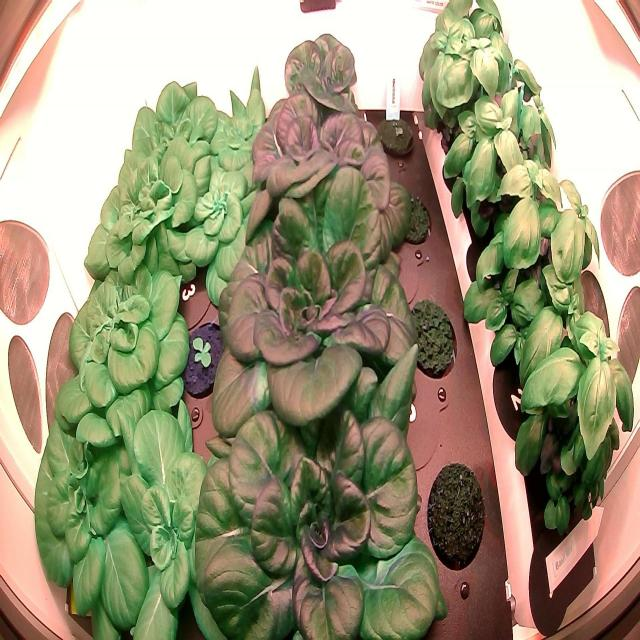Ready: (181, 334, 451, 640), (200, 159, 435, 441), (245, 75, 409, 245), (268, 17, 370, 150)
germination: (371, 102, 423, 170)
pod: (425, 455, 487, 570), (400, 292, 458, 379), (389, 178, 433, 247)
young: (108, 401, 238, 639), (33, 401, 148, 639), (54, 250, 190, 437), (163, 151, 274, 313), (82, 146, 205, 286), (121, 70, 228, 204), (191, 62, 283, 191), (170, 314, 240, 406)
